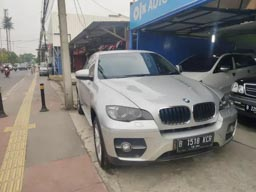plat: (172, 135, 215, 144)
